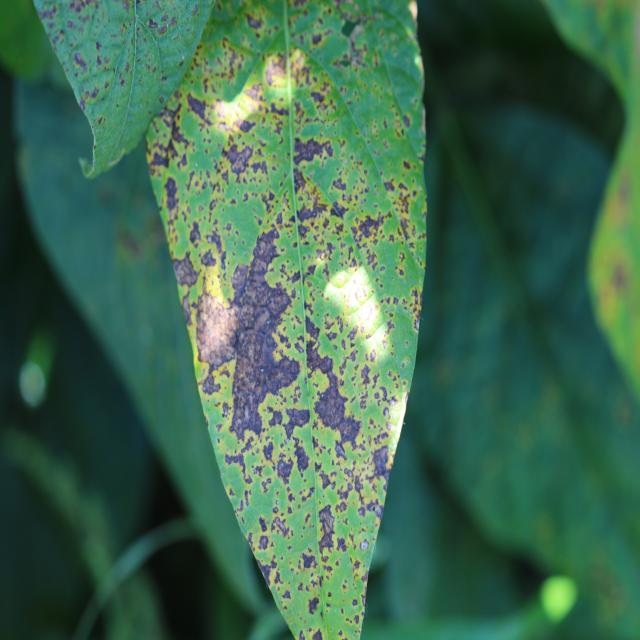Bacterial_Blight: (307, 248, 408, 480), (192, 228, 303, 429), (252, 42, 318, 123), (267, 527, 330, 607), (73, 27, 116, 85), (151, 101, 183, 168), (248, 226, 282, 275), (215, 90, 254, 130), (296, 191, 333, 229), (203, 264, 231, 309), (223, 140, 256, 174), (352, 212, 385, 241), (186, 92, 209, 120), (347, 28, 364, 64), (330, 268, 356, 291), (256, 557, 275, 584), (188, 220, 202, 247), (200, 248, 217, 269), (399, 216, 412, 240), (246, 13, 262, 30), (73, 51, 87, 69), (257, 534, 269, 551), (148, 18, 159, 29), (221, 402, 229, 417), (79, 98, 86, 111), (414, 318, 420, 332), (96, 116, 103, 125)
Soybean: (29, 0, 430, 640)
